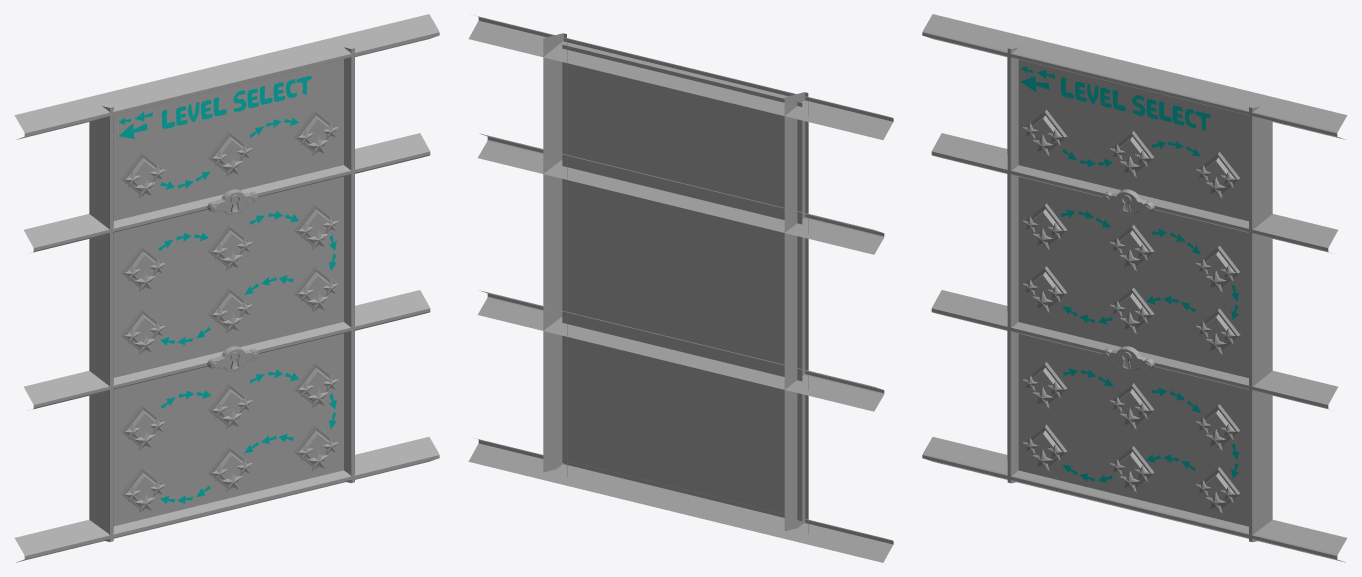
Rendered from mesh_levelselect_new.fbx.
3 renders of one model, left to right at view 1: azimuth 30°, elevation 25°; view 2: azimuth 150°, elevation 25°; view 3: azimuth 330°, elevation 25°, orthographic.
Parts seen in each view (by area): view 1: mesh_levelselect_backround, mesh_border11, mesh_border10, mesh_border12, mesh_border7, mesh_border8, mesh_levelselect_borders, mesh_border9, mesh_levelselect_text, mesh_lock1, mesh_lock2; view 2: mesh_levelselect_backround, mesh_border12, mesh_border11, mesh_border9, mesh_border10, mesh_border7, mesh_border8; view 3: mesh_levelselect_backround, mesh_border11, mesh_border9, mesh_border12, mesh_border7, mesh_border8, mesh_border10, mesh_levelselect_borders, mesh_levelselect_text, mesh_lock1, mesh_lock2.
Boxes of the visible parts, x1=… form: mesh_levelselect_backround: x1=113, y1=59, x2=343, y2=526; mesh_border11: x1=14, y1=14, x2=439, y2=139; mesh_border10: x1=89, y1=106, x2=113, y2=541; mesh_border12: x1=14, y1=437, x2=439, y2=562; mesh_border7: x1=24, y1=133, x2=430, y2=253; mesh_border8: x1=24, y1=290, x2=430, y2=409; mesh_levelselect_borders: x1=121, y1=110, x2=335, y2=510; mesh_border9: x1=344, y1=47, x2=354, y2=483; mesh_levelselect_text: x1=161, y1=75, x2=311, y2=128; mesh_lock1: x1=207, y1=189, x2=258, y2=214; mesh_lock2: x1=207, y1=346, x2=258, y2=371; mesh_levelselect_backround: x1=562, y1=44, x2=802, y2=521; mesh_border12: x1=468, y1=438, x2=893, y2=562; mesh_border11: x1=468, y1=15, x2=893, y2=139; mesh_border9: x1=543, y1=33, x2=567, y2=477; mesh_border10: x1=784, y1=92, x2=808, y2=534; mesh_border7: x1=478, y1=133, x2=884, y2=254; mesh_border8: x1=477, y1=290, x2=884, y2=411; mesh_levelselect_backround: x1=1018, y1=59, x2=1248, y2=526; mesh_border11: x1=922, y1=14, x2=1347, y2=139; mesh_border9: x1=1249, y1=106, x2=1272, y2=542; mesh_border12: x1=922, y1=437, x2=1347, y2=562; mesh_border7: x1=931, y1=133, x2=1337, y2=253; mesh_border8: x1=931, y1=290, x2=1337, y2=409; mesh_border10: x1=1007, y1=47, x2=1018, y2=483; mesh_levelselect_borders: x1=1025, y1=109, x2=1240, y2=510; mesh_levelselect_text: x1=1060, y1=77, x2=1210, y2=130; mesh_lock1: x1=1103, y1=189, x2=1154, y2=214; mesh_lock2: x1=1103, y1=346, x2=1154, y2=371.
Size of the model in its own units: 0.4812 by 0.4962 by 0.0279.
